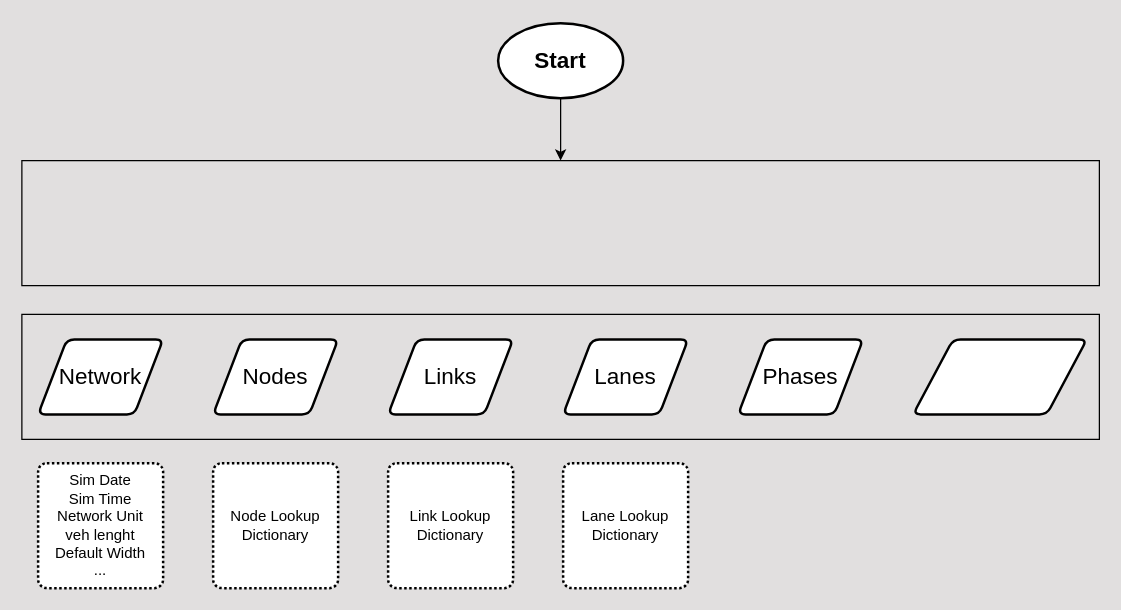
Some shapes in this 1121 by 610 pixel diagram are drawn without their labels. Each missing label, with the centre of its shape:
"Timeplans" goes at point (999, 376).
"UTDF" goes at point (560, 222).
